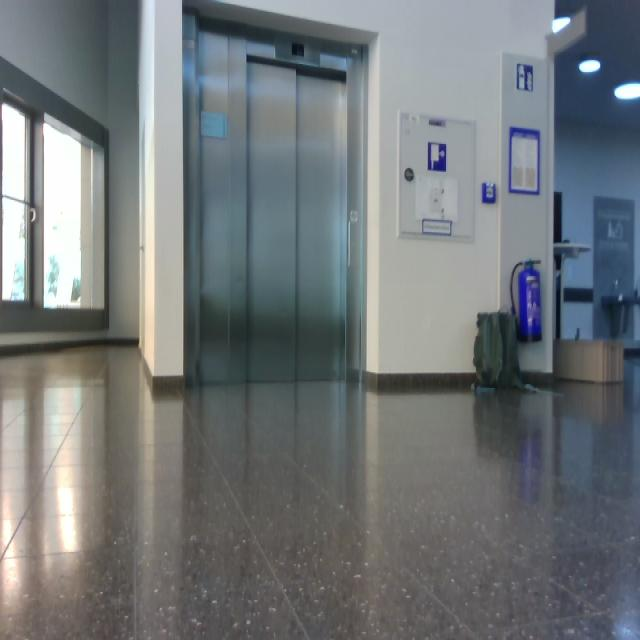door: (185, 17, 369, 386), (245, 56, 348, 384)
fire extinguisher: (511, 259, 543, 343)
light bulb: (19, 206, 37, 240), (614, 82, 640, 101), (579, 59, 601, 75), (552, 16, 571, 34)
pillar: (138, 1, 185, 380)
tiled floor: (2, 341, 639, 638)
window: (1, 68, 109, 332)
